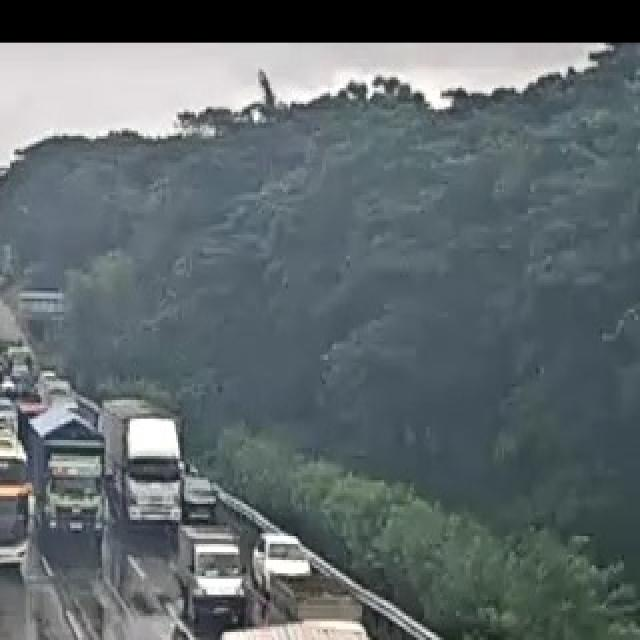bus: (0, 421, 34, 576)
car: (178, 520, 246, 624), (254, 530, 320, 602)
van: (102, 397, 186, 531), (30, 411, 106, 541), (214, 613, 576, 640), (416, 634, 640, 640)
